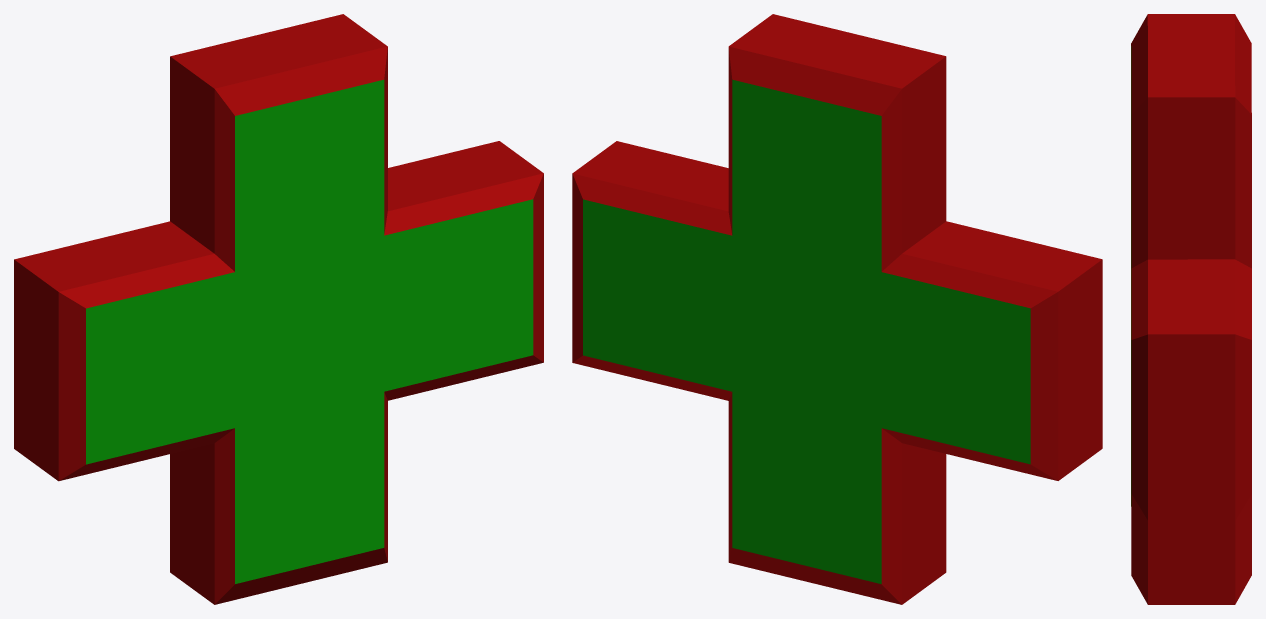
The model's file is healthCross.obj.
3 views of the same model, side by side, from view 1: azimuth 30°, elevation 25°; view 2: azimuth 150°, elevation 25°; view 3: azimuth 270°, elevation 25° (orthographic).
Visible parts, largest first — view 1: Mesh; view 2: Mesh; view 3: Mesh.
Boxes of the visible parts, x1,y1,x2,y2 form: Mesh: (14, 14, 543, 604); Mesh: (572, 14, 1102, 604); Mesh: (1131, 14, 1251, 604).
Bounding box in the file's own units: 6.51 × 6.62 × 1.43.
